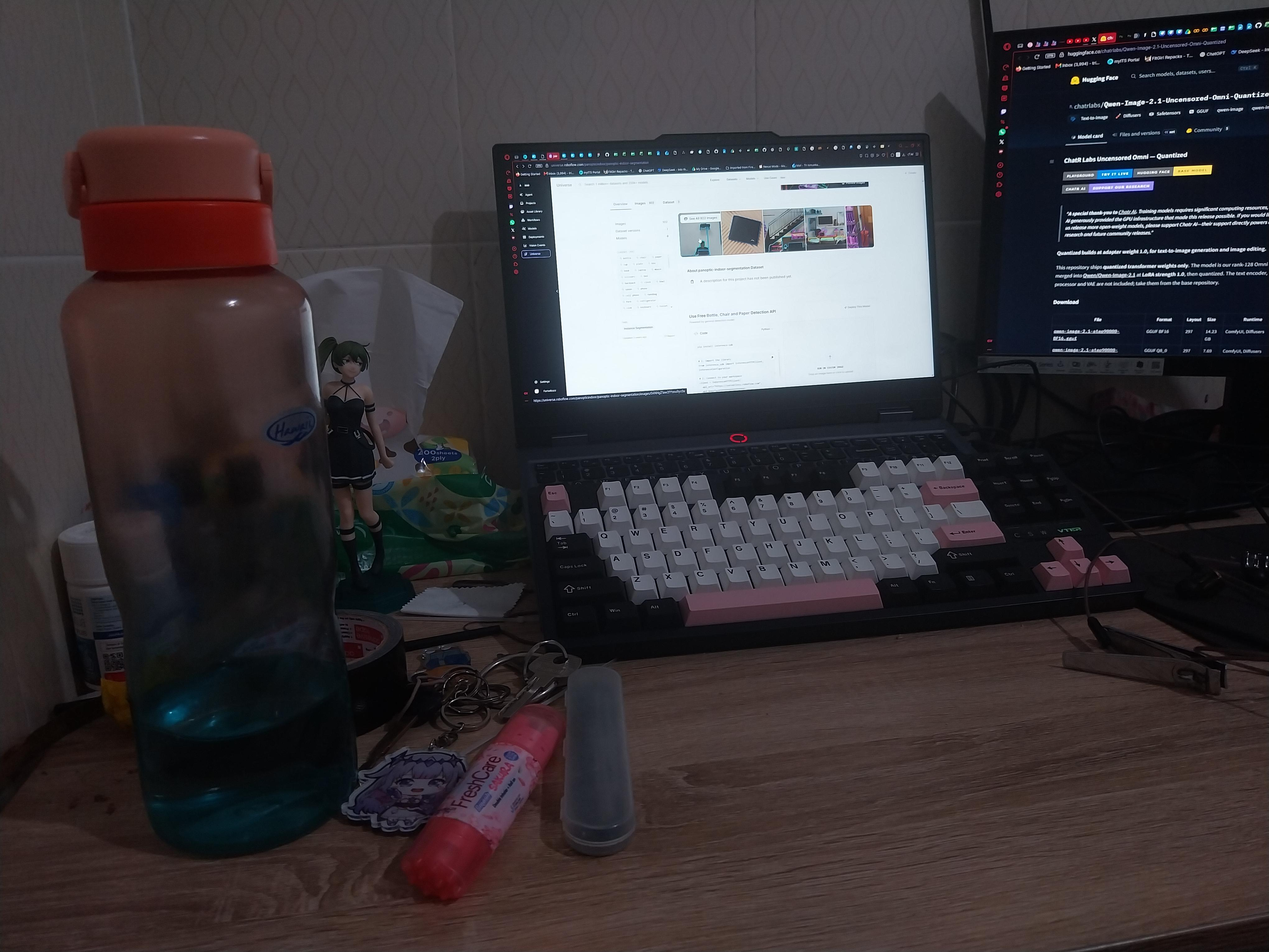bottle: (31, 101, 396, 868)
keyboard: (527, 440, 1149, 669)
laptop: (490, 103, 982, 494)
